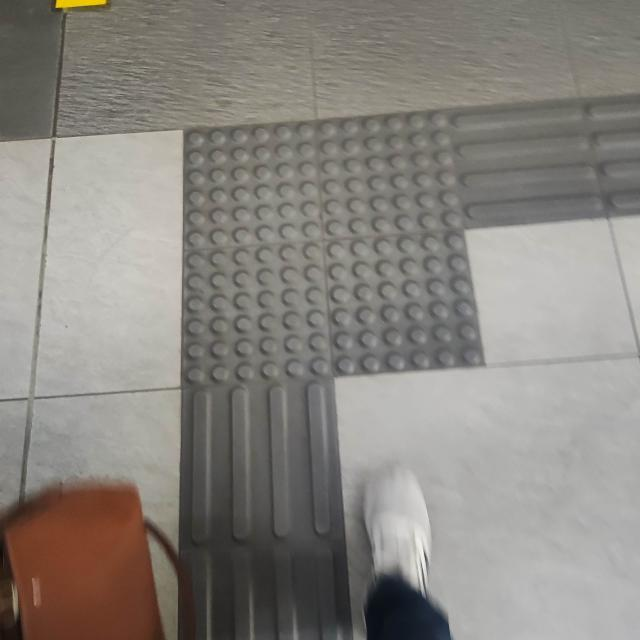kanan: (125, 81, 640, 438)
